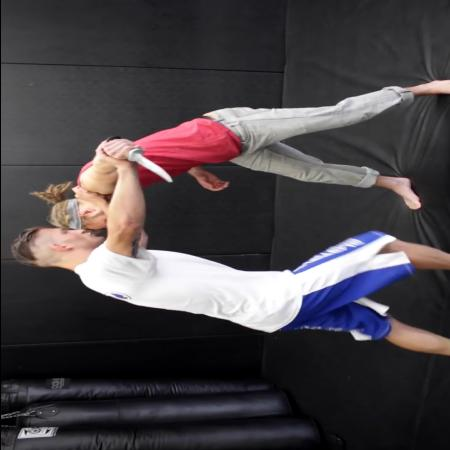long weapon: (98, 136, 178, 186)
